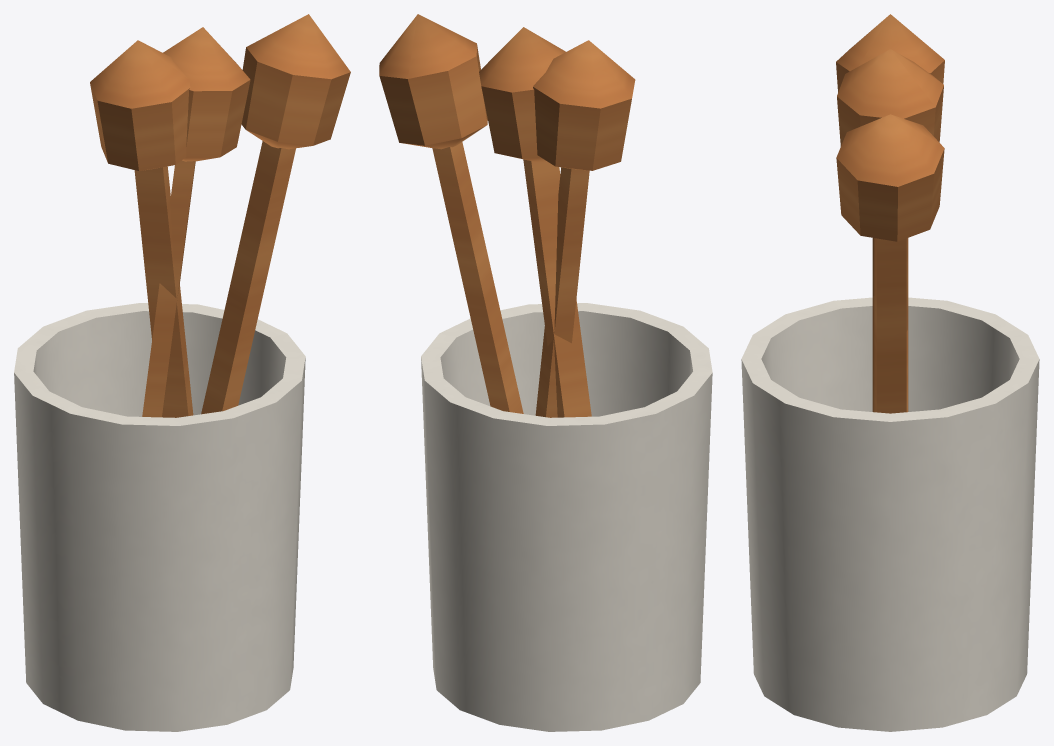
Rendered from SM_Utensil_Crock.fbx.
3 renders of one model, left to right at view 1: azimuth 30°, elevation 25°; view 2: azimuth 150°, elevation 25°; view 3: azimuth 270°, elevation 25°, orthographic.
Parts seen in each view (by area): view 1: SM_Utensil_Crock; view 2: SM_Utensil_Crock; view 3: SM_Utensil_Crock.
Part boxes in pixels (<box>): SM_Utensil_Crock: <box>14,14,350,731</box>; SM_Utensil_Crock: <box>379,14,712,731</box>; SM_Utensil_Crock: <box>741,14,1039,731</box>.
Bounding box in the file's own units: 0.1465 × 0.2884 × 0.12.
2 materials, 2 textured.
